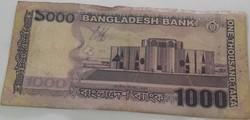1000 taka: (18, 1, 246, 115)
